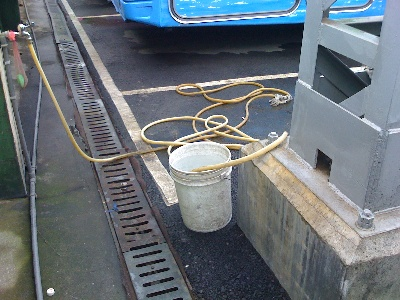bucket: (168, 141, 233, 233)
